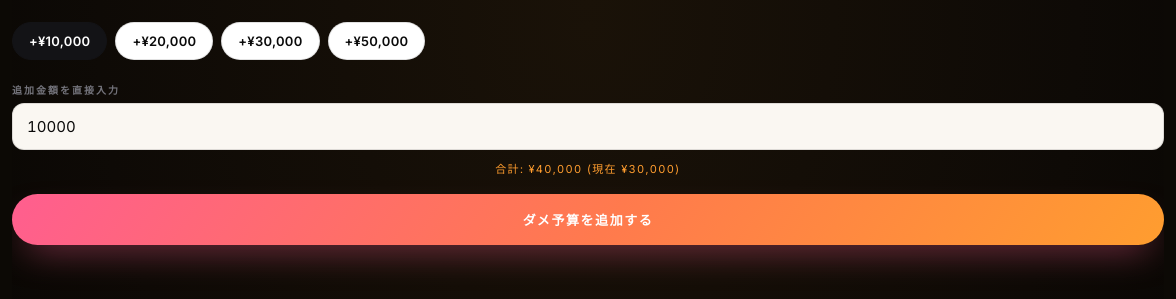
Test: AddBudgetForm › クイックボタン (+¥20,000) を選択すると合計が currentBudget + 20,000 になる
What coordinates should you click on to do the following:
click the button with test id "add-budget-quick-20000"
I would click on:
 (164, 41)
Its box is [115,22,213,60].
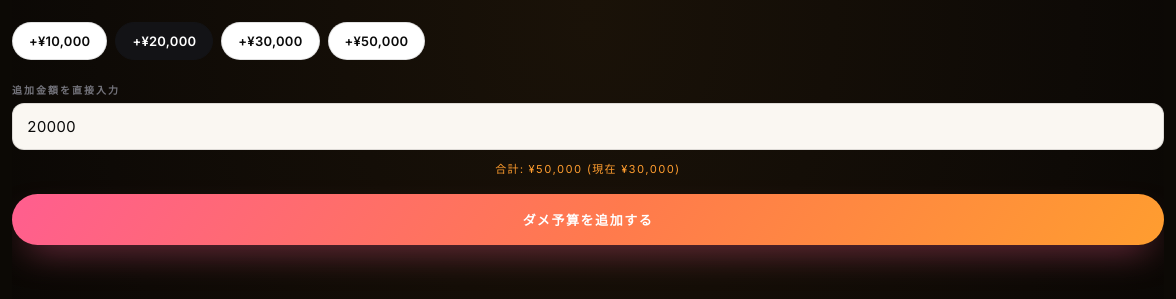
Now the text with test id "add-budget-preview" shows "¥50,000", box [495,162,681,176]
